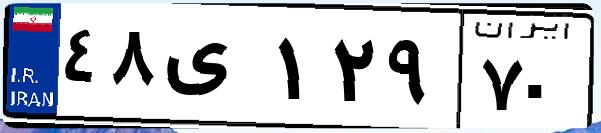0: (525, 38, 570, 115)
1: (270, 28, 330, 110)
2: (330, 28, 385, 110)
4: (57, 26, 110, 100)
7: (475, 38, 525, 113)
8: (110, 28, 158, 98)
9: (385, 28, 445, 110)
ی: (158, 20, 270, 120)
